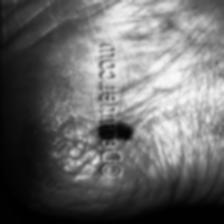Potentially Malignant Skin Tumors: (117, 118, 136, 142), (94, 122, 106, 140)
